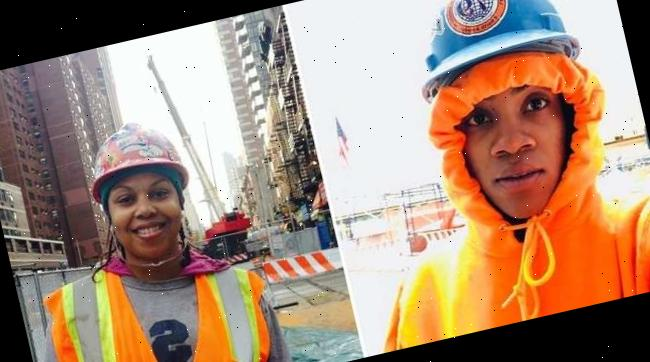helmet: (397, 0, 588, 101), (75, 112, 195, 212)
no_wear: (362, 178, 650, 352)
wear: (36, 243, 287, 362)
